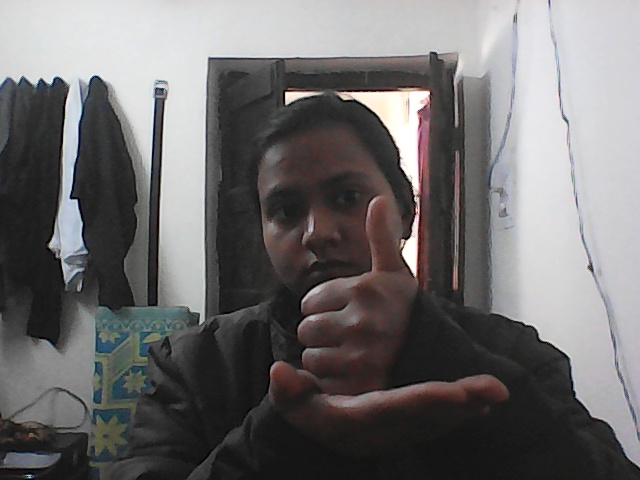Help: (202, 183, 524, 446)
